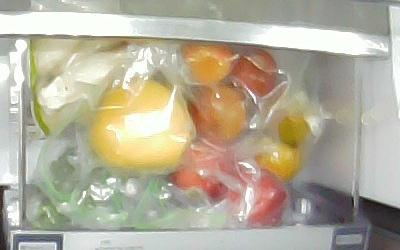apple_vinyl: (170, 137, 235, 205), (223, 167, 285, 228), (227, 50, 278, 95)
grapefruit_vinyl: (90, 76, 193, 171)
persimmon_vinyl: (261, 93, 315, 147), (253, 138, 305, 182)
prune_vinyl: (192, 85, 246, 145), (179, 42, 233, 87)
